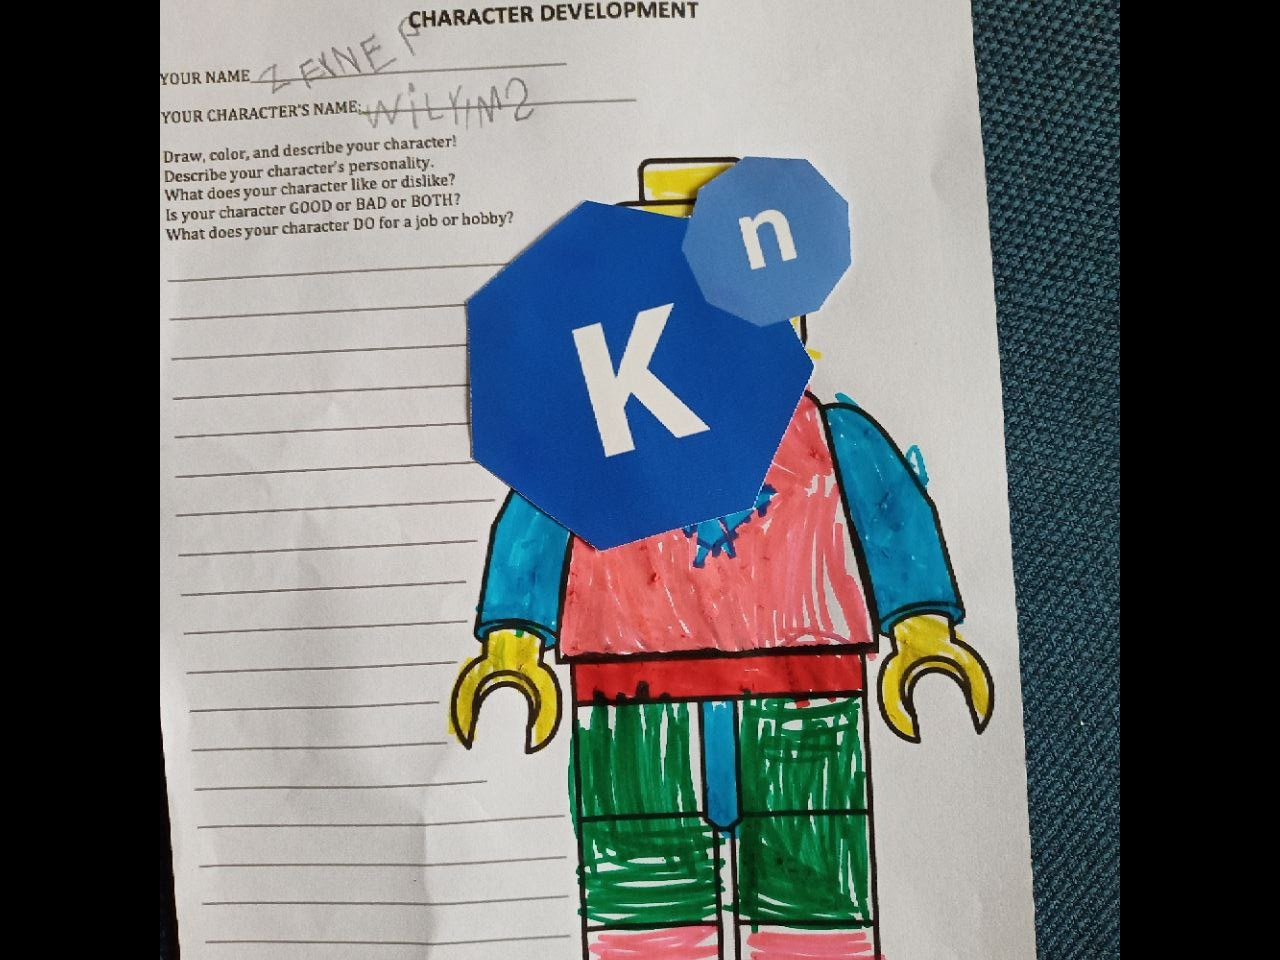knative: (461, 154, 855, 552)
